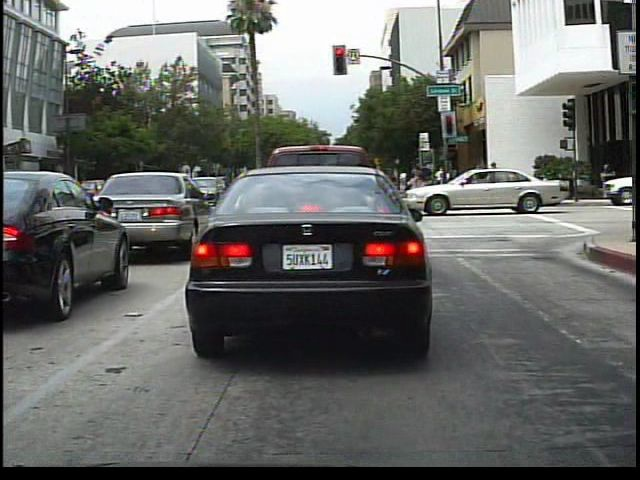person: (409, 159, 441, 210), (468, 158, 486, 199), (489, 157, 506, 198)
